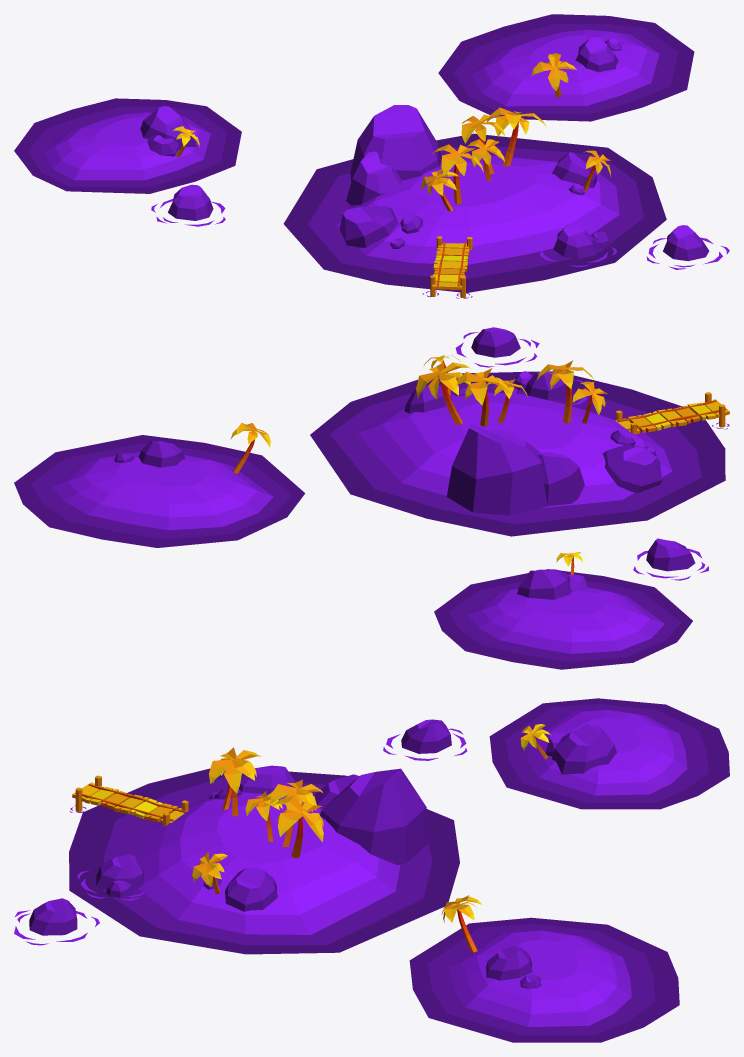
The model's file is background-island-night.glb.
The picture shows the model from 3 angles, top to bottom: view 1: azimuth 30°, elevation 25°; view 2: azimuth 150°, elevation 25°; view 3: azimuth 270°, elevation 25°; orthographic projection. The views are drawn at different scales.
Parts seen in each view (by area): view 1: Island, Island.001, Island.002, Rock.001, Rock.008, Dock, Rock.002, Rock.016, Rock.018, Rock.007, Rock.013, Rock.014 (+8 smaller); view 2: Island, Island.001, Island.002, Rock.001, Rock.008, Dock, Rock.002, Rock.016, Palm Tree.004, Rock.018, Rock.013, Palm Tree.003 (+6 smaller); view 3: Island, Island.001, Island.002, Rock.001, Dock, Rock.016, Rock.011, Rock.013, Palm Tree.004, Palm Tree, Rock.018, Rock.014 (+7 smaller).
Boxes of the visible parts, x1,y1,x2,y2 form: Island: (283, 133, 666, 292); Island.001: (438, 14, 694, 121); Island.002: (14, 98, 241, 193); Rock.001: (350, 105, 441, 181); Rock.008: (339, 206, 398, 247); Dock: (430, 236, 472, 297); Rock.002: (346, 151, 401, 205); Rock.016: (140, 106, 196, 150); Rock.018: (168, 184, 213, 220); Rock.007: (553, 223, 599, 258); Rock.013: (663, 225, 709, 261); Rock.014: (575, 37, 618, 72); Island: (310, 371, 725, 536); Island.001: (14, 435, 305, 547); Island.002: (434, 569, 692, 669); Rock.001: (447, 424, 548, 515); Rock.008: (603, 444, 661, 492); Dock: (615, 392, 729, 434); Rock.002: (536, 451, 584, 506); Rock.016: (517, 569, 570, 599); Palm Tree.004: (416, 362, 470, 424); Rock.018: (646, 538, 695, 571); Rock.013: (471, 327, 520, 357); Palm Tree.003: (457, 368, 510, 426); Island: (69, 768, 459, 954); Island.001: (409, 917, 679, 1042); Island.002: (489, 698, 729, 809); Rock.001: (320, 768, 429, 864); Dock: (72, 775, 188, 826); Rock.016: (552, 724, 616, 774); Rock.011: (225, 867, 277, 911); Rock.013: (29, 898, 77, 935); Palm Tree.004: (274, 795, 323, 858); Palm Tree: (209, 747, 261, 816); Rock.018: (401, 719, 451, 753); Rock.014: (486, 945, 532, 980).
Size of what is drawn, in the model's own units: 41.7 by 5.61 by 36.72.
1 material, 1 textured.
